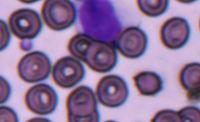L: (77, 0, 125, 41)
